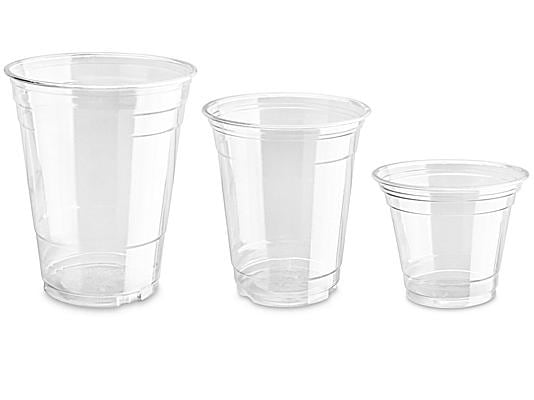plastic_glass: (1, 50, 200, 313), (199, 82, 373, 312), (368, 146, 534, 317)
